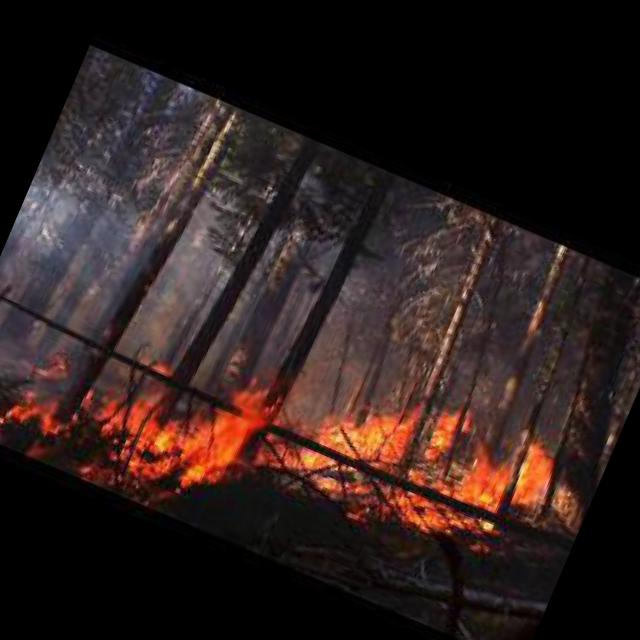fire: (22, 252, 596, 640)
